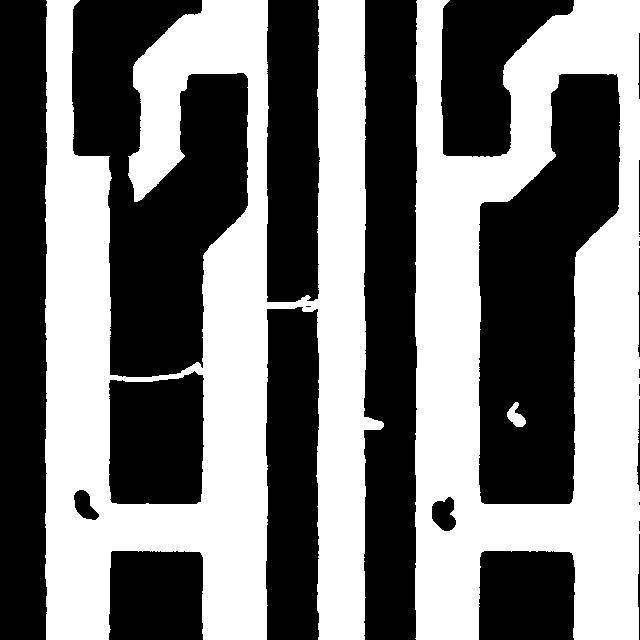copper: (422, 487, 465, 540), (64, 480, 108, 529)
mousebite: (345, 407, 393, 439)
open: (95, 352, 214, 391), (252, 285, 332, 321)
pin-hole: (497, 392, 535, 436)
short: (98, 142, 143, 222)
